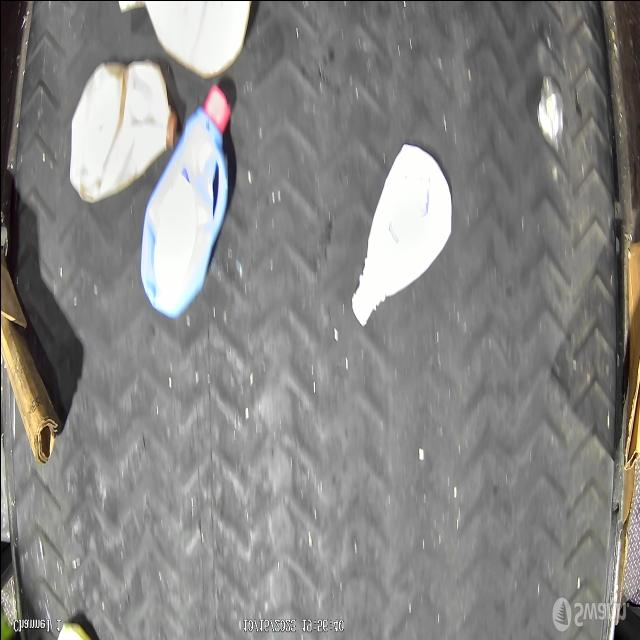can: (532, 66, 566, 142)
milk_jug: (140, 0, 248, 70)
non_white_jug: (138, 83, 238, 321), (66, 51, 174, 210)
